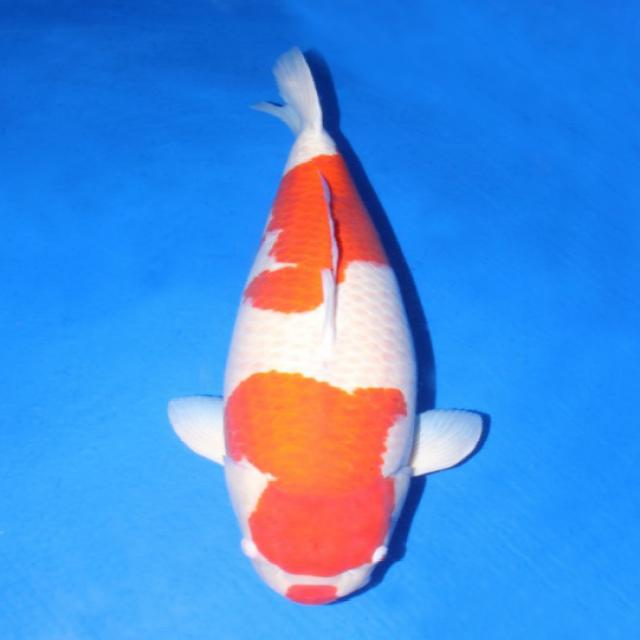Kohaku: (166, 45, 490, 606)
